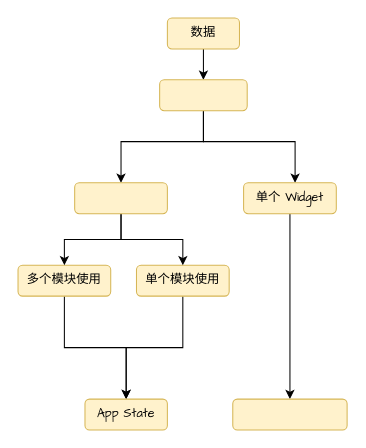
This 366x448 diagram has some shape labels left out. The shapes that lost their labels are listed below. From the top down, each one's centre as x and y in pixels, then its label:
At (203,95): "由谁使用".
At (120,198): "非单一Widget".
At (289,414): "Ephemeral State".
